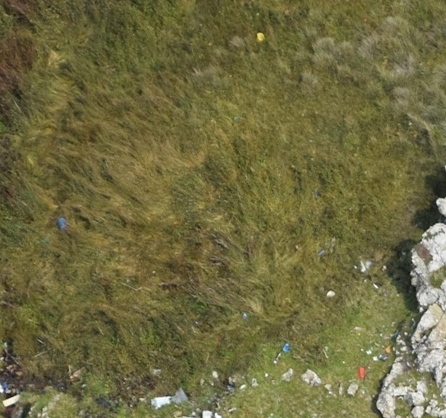scattered_barrel: (346, 330, 400, 386)
white_in_green: (34, 196, 88, 243), (232, 9, 286, 56), (259, 323, 313, 370)
